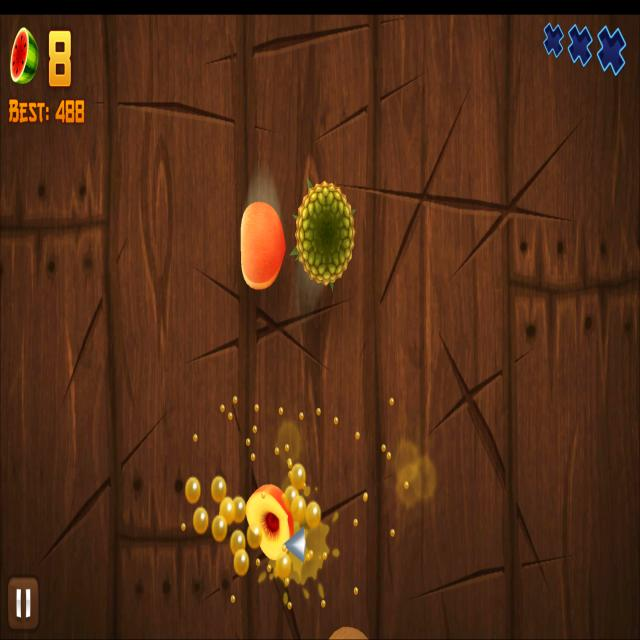fruit: (294, 183, 354, 285), (240, 200, 286, 290), (321, 623, 381, 640)
